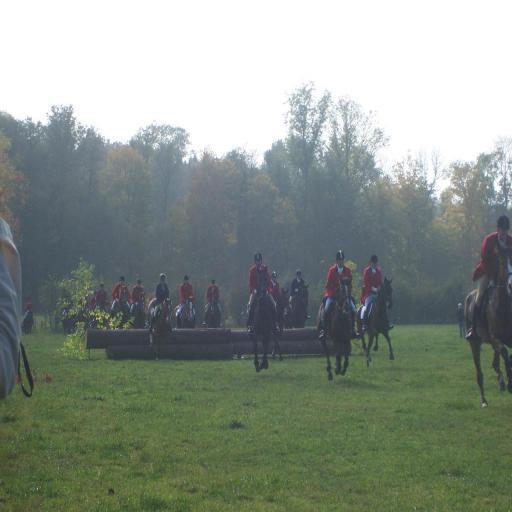horse: (464, 242, 512, 407), (60, 284, 147, 330), (316, 276, 352, 380), (357, 276, 394, 368), (246, 264, 274, 373), (146, 292, 173, 360), (288, 282, 310, 328), (172, 294, 196, 330), (276, 288, 292, 332), (203, 294, 222, 326)
